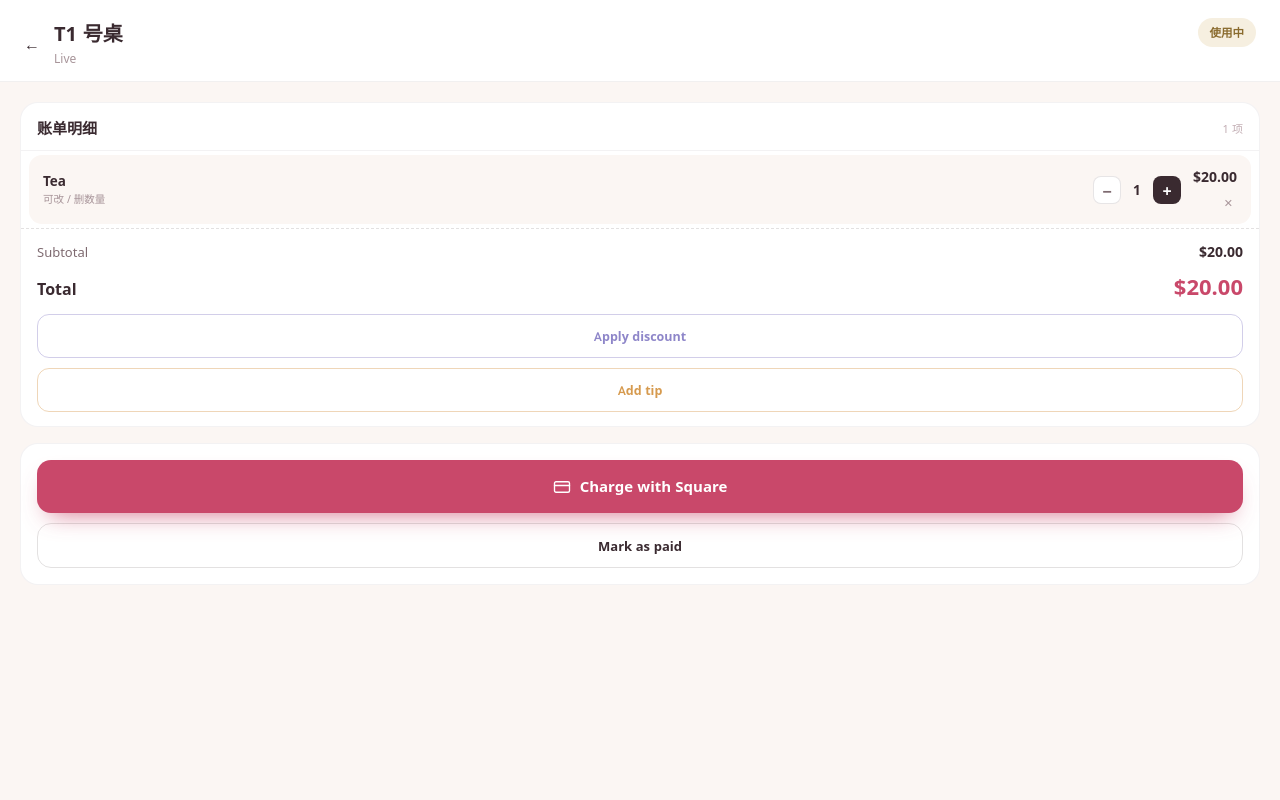
Scenario: TableDetail — add tip › surfaces a 422 invalid-value backend error
This screenshot has width=1280, height=800.
Click the button "Add tip" at (640, 390), box 37,368 -> 1243,412
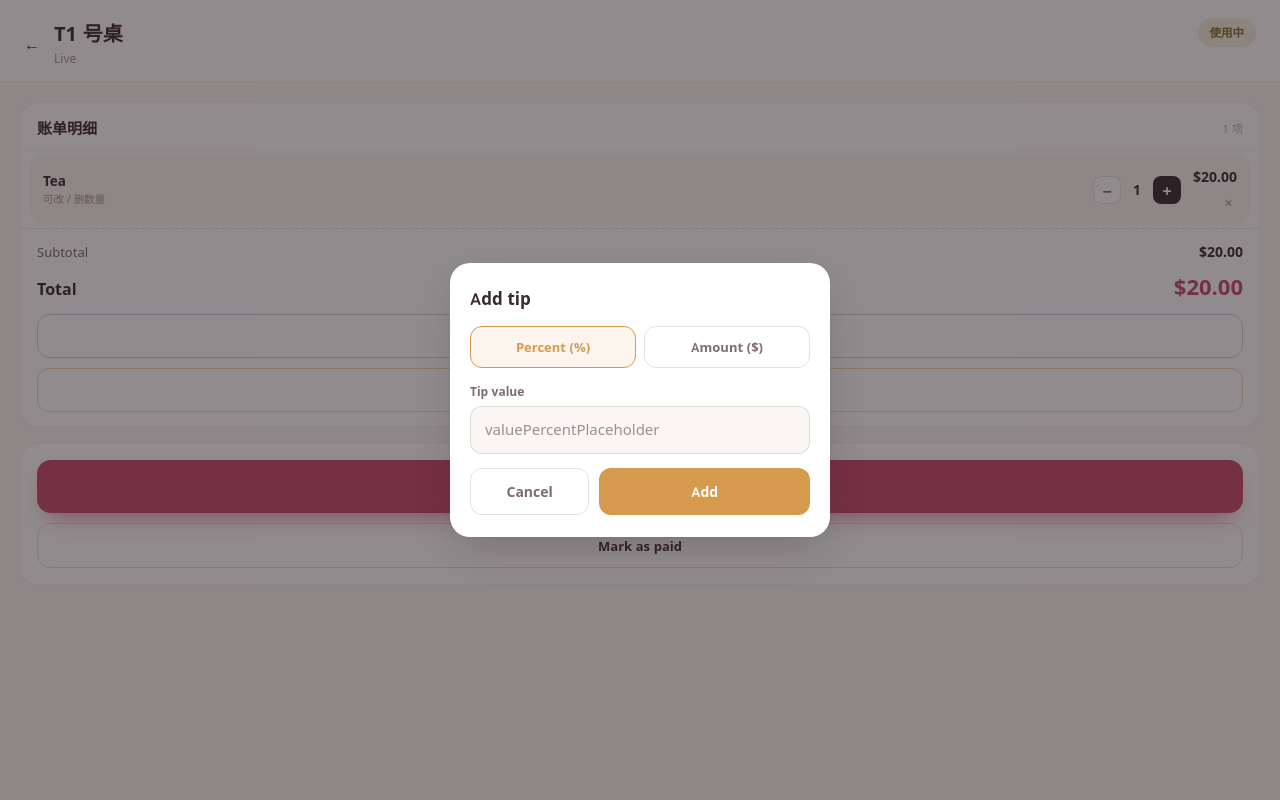
Type "10" into the number field labelled "Tip value" at (640, 430), box 470,406 -> 810,454
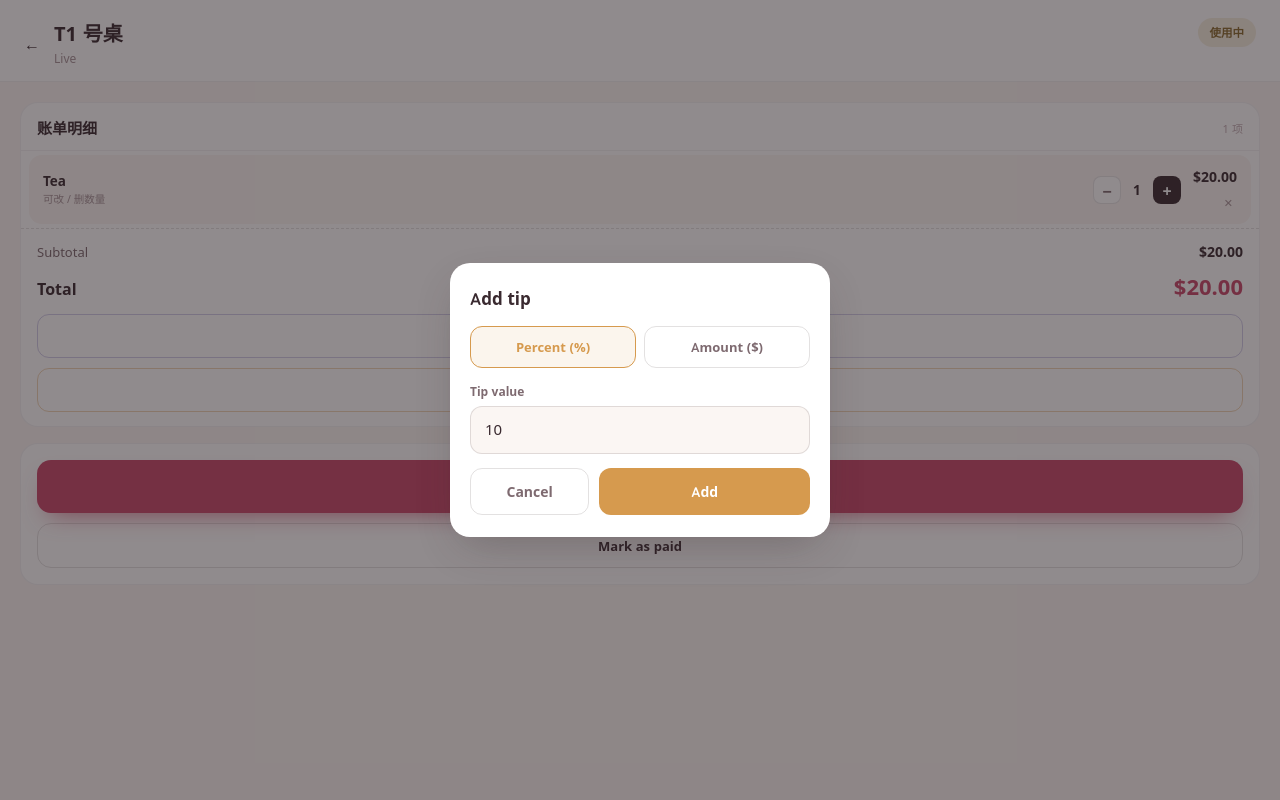
Click the button "Add" at (705, 492), box 599,468 -> 810,515
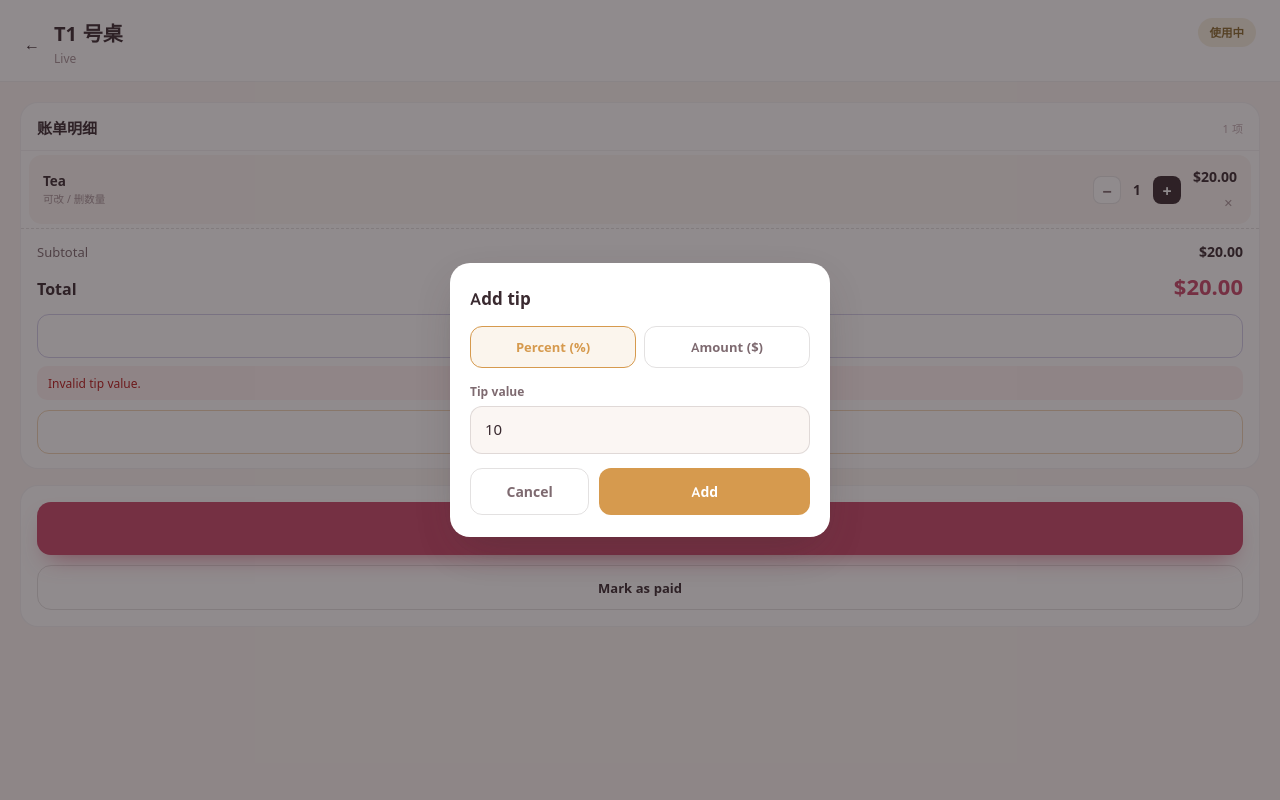
Expected: the text "Invalid tip value." is shown, 37,366 -> 1243,400
